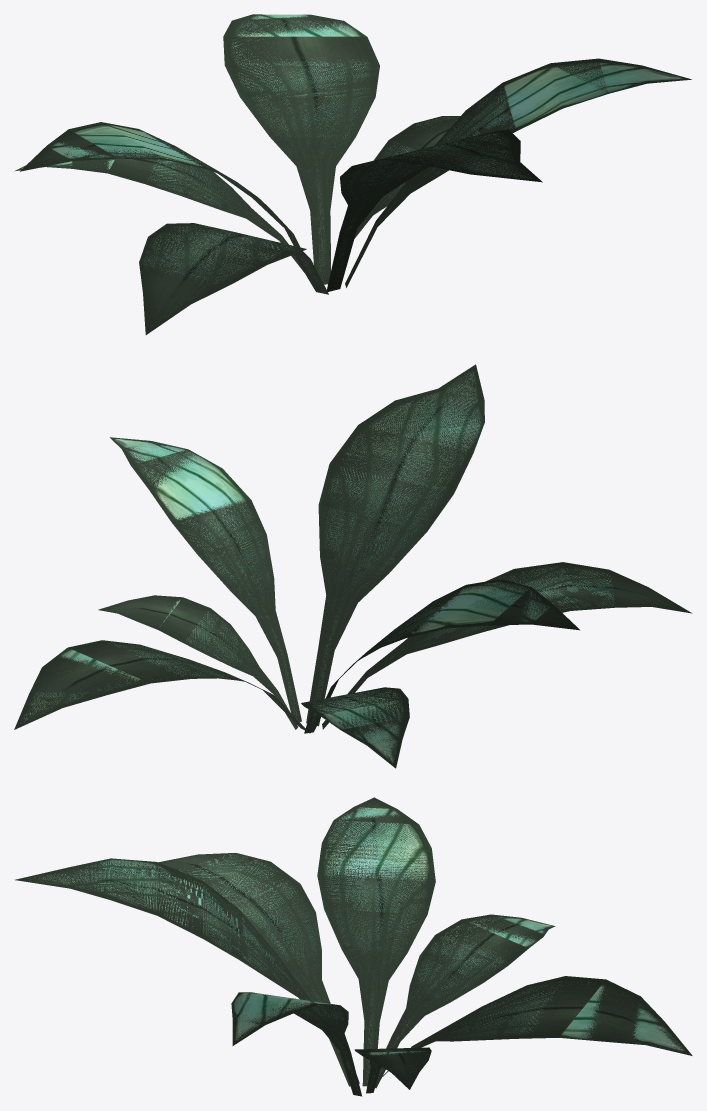
The model's file is bush7.fbx.
The picture shows the model from 3 angles, top to bottom: view 1: azimuth 30°, elevation 25°; view 2: azimuth 150°, elevation 25°; view 3: azimuth 270°, elevation 25°; orthographic projection. The views are drawn at different scales.
Visible parts, largest first — view 1: polySurface592; view 2: polySurface592; view 3: polySurface592.
Part boxes in pixels (x1,y1,x2,y2): polySurface592: (14,14,691,334); polySurface592: (14,364,692,768); polySurface592: (15,797,692,1096).
Bounding box in the file's own units: 1.57 × 0.6228 × 1.77.
